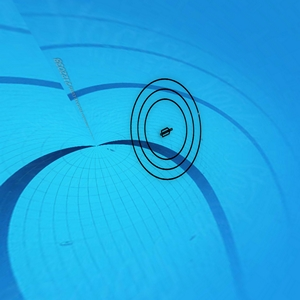circle: (130, 77, 207, 184)
submarine: (161, 129, 174, 140)
